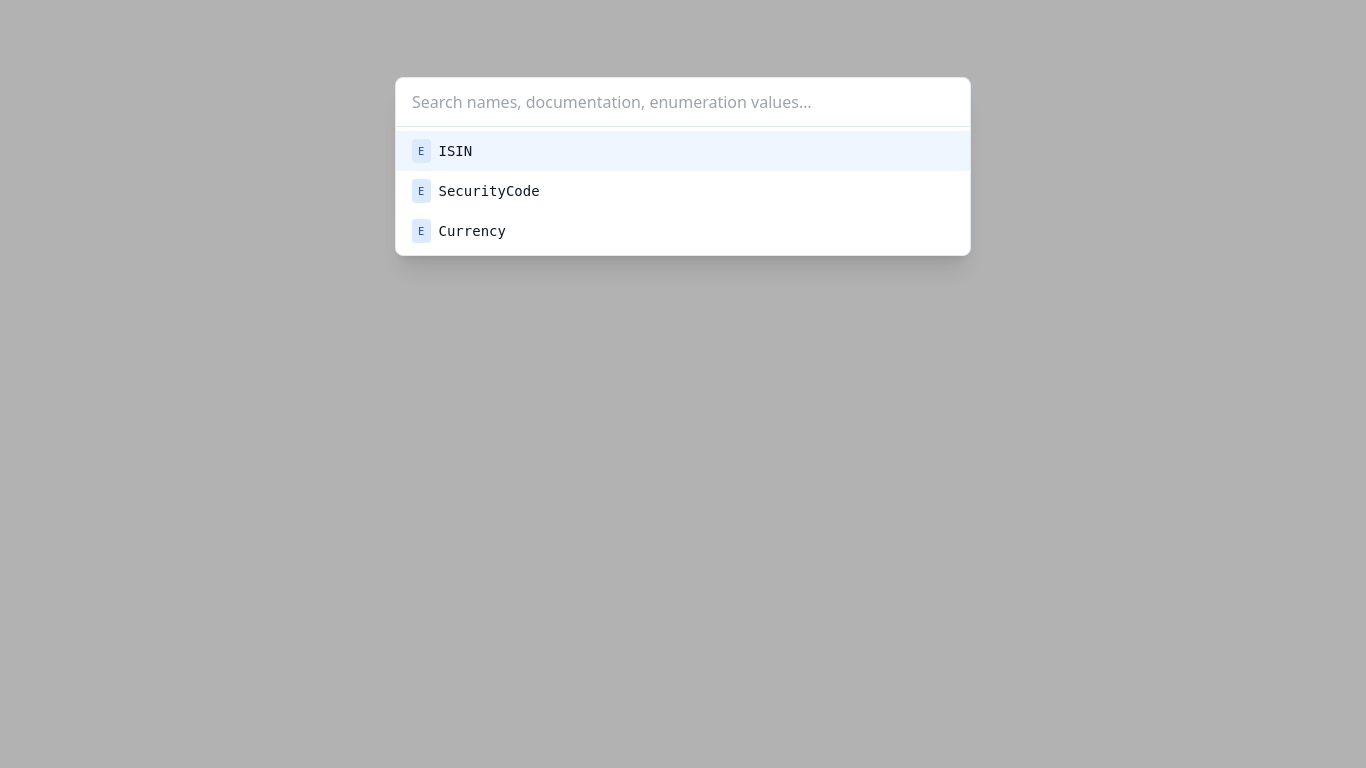
Test case: SearchPalette › finds documentation matches after name matches and shows the excerpt
In the field with placeholder "Search names, documentation, enumeration values…": point(683, 102) [396,78,970,127], type "isin"
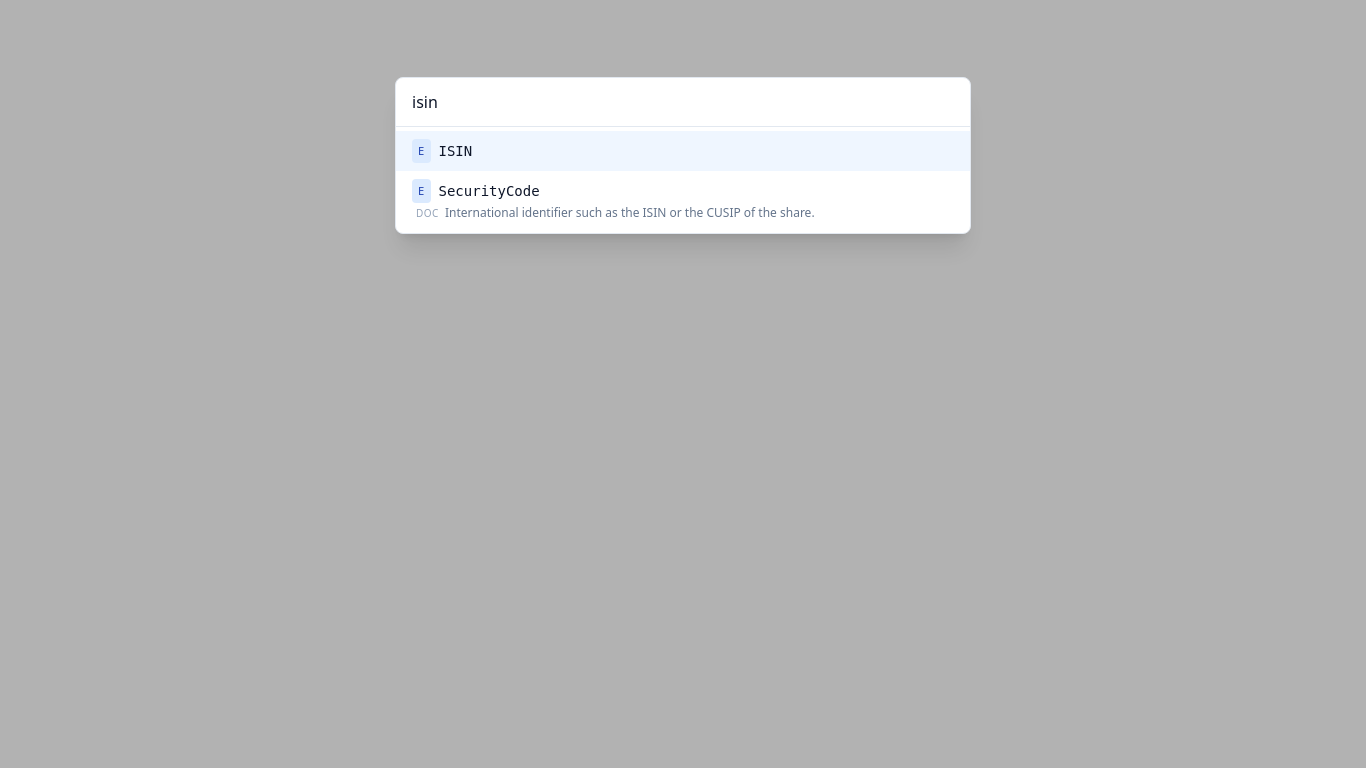
Expected: the list item "E ISIN" is shown, [396,131,970,171]
Result: the number of list items is 2 at [396,131,970,171]; [412,179,815,221]
Result: the list item that starts with "SecurityCode" shows "such as the ISIN or the CUSIP" at [445,204,815,221]
